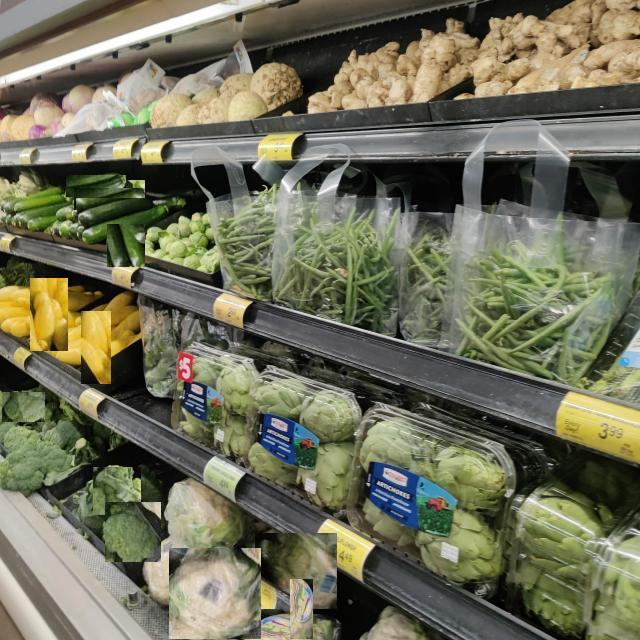Broccoli: (106, 501, 161, 562), (92, 468, 141, 515), (0, 446, 46, 495), (1, 391, 45, 422)
Cauliflower: (170, 547, 261, 640), (254, 532, 337, 609), (170, 476, 247, 551), (290, 580, 313, 640)
Squash: (30, 278, 68, 350), (80, 311, 111, 384), (90, 305, 142, 336)
Zucchini: (107, 179, 145, 267), (76, 198, 150, 224), (73, 187, 145, 210), (16, 199, 73, 225), (4, 189, 63, 212), (65, 175, 126, 197)
